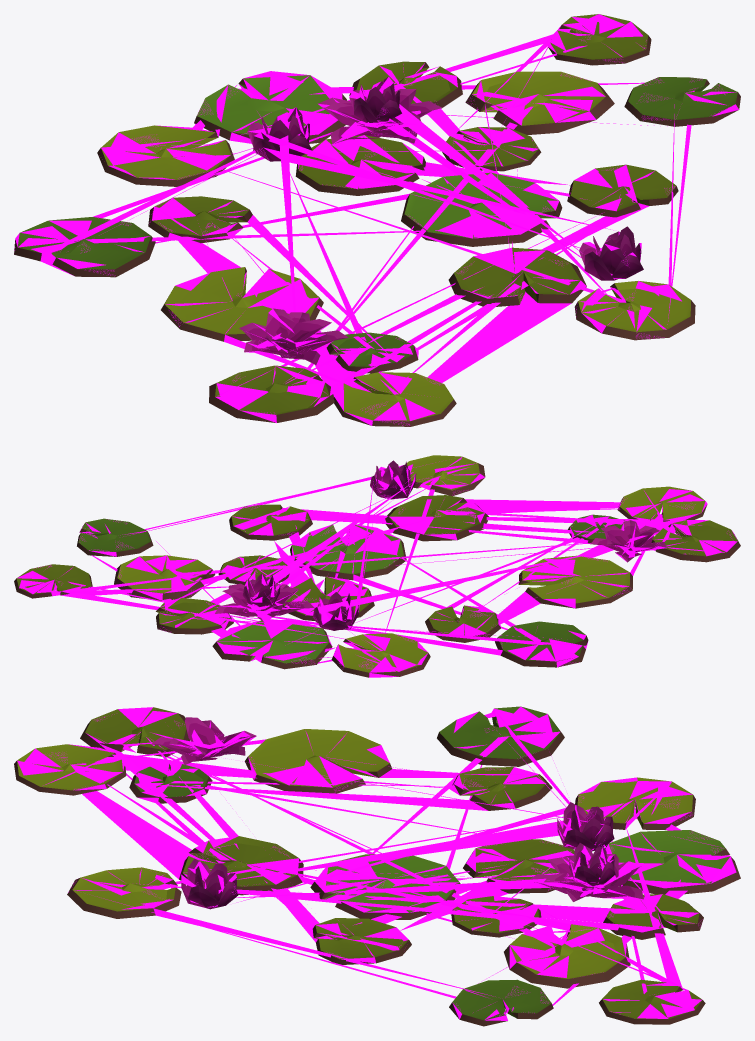
The model's file is SM_Env_Lillies_01.glb.
3 renders of one model, top to bottom at view 1: azimuth 30°, elevation 25°; view 2: azimuth 150°, elevation 25°; view 3: azimuth 270°, elevation 25°, orthographic. The views are drawn at different scales.
Parts seen in each view (by area): view 1: SM_Env_Lillies_01; view 2: SM_Env_Lillies_01; view 3: SM_Env_Lillies_01.
Part boxes in pixels (x1=…): SM_Env_Lillies_01: x1=14, y1=14, x2=740, y2=426; SM_Env_Lillies_01: x1=14, y1=455, x2=740, y2=677; SM_Env_Lillies_01: x1=14, y1=706, x2=740, y2=1026.
Bounding box in the file's own units: 2.7 × 0.1969 × 2.61.
2 materials, 1 textured.
